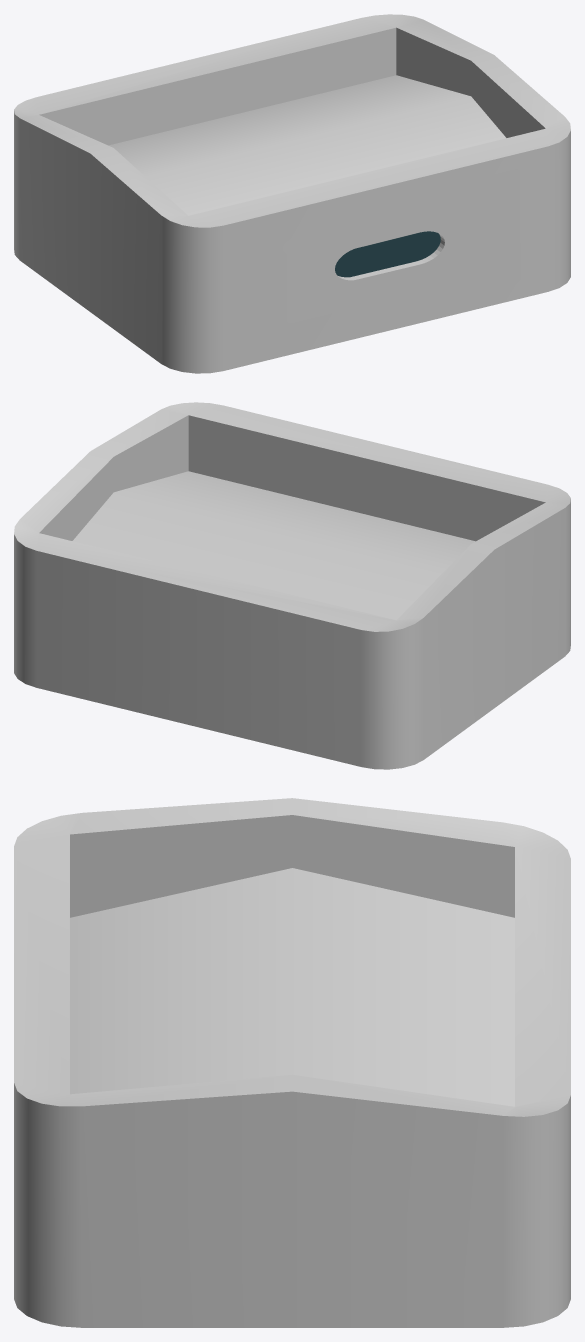
File: CapstoneSpaceshipINSIDE_BBASScharger.fbx
3 views of the same model, one above another, from view 1: azimuth 30°, elevation 25°; view 2: azimuth 150°, elevation 25°; view 3: azimuth 270°, elevation 25° (orthographic). The views are drawn at different scales.
Visible parts, largest first — view 1: Cube.015; view 2: Cube.015; view 3: Cube.015.
Part boxes in pixels (<box>): Cube.015: <box>14,14,570,373</box>; Cube.015: <box>14,402,570,769</box>; Cube.015: <box>14,798,570,1327</box>.
Bounding box in the file's own units: 136 × 51.13 × 109.
